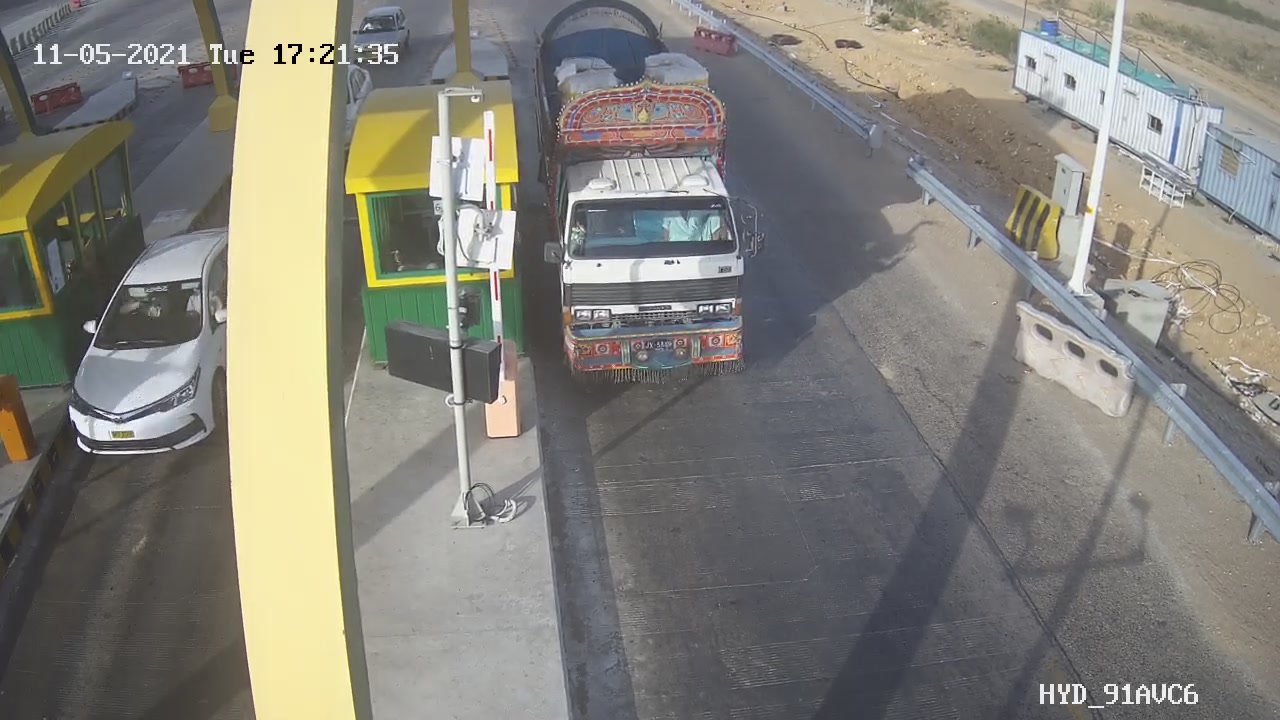F5: (513, 1, 786, 407)
